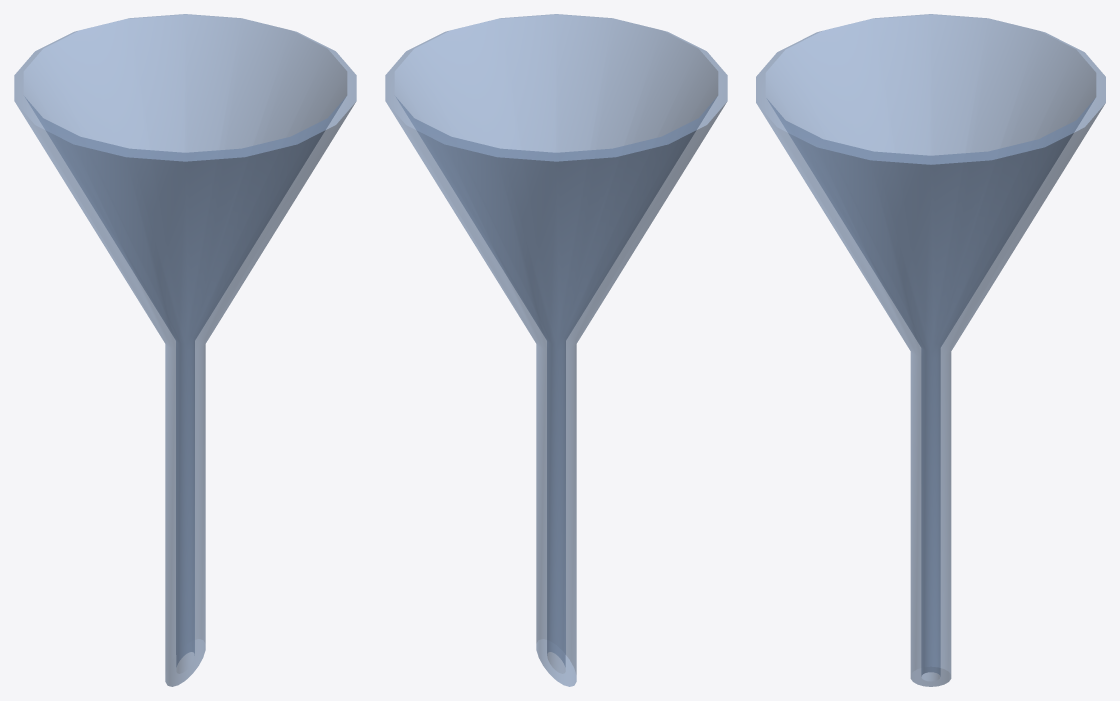
Rendered from nalevka.fbx.
3 views of the same model, side by side, from view 1: azimuth 30°, elevation 25°; view 2: azimuth 150°, elevation 25°; view 3: azimuth 270°, elevation 25° (orthographic). The views are drawn at different scales.
Parts seen in each view (by area): view 1: nalevka; view 2: nalevka; view 3: nalevka.
Boxes of the visible parts, x1,y1,x2,y2 form: nalevka: [14, 14, 356, 686]; nalevka: [385, 14, 727, 686]; nalevka: [756, 14, 1105, 686].
Bounding box in the file's own units: 9.45 × 17.94 × 9.31.
